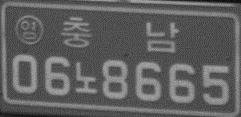0: (11, 53, 38, 94)
5: (200, 63, 230, 106)
6: (167, 62, 196, 104), (134, 60, 162, 102), (43, 55, 70, 96)
8: (101, 59, 128, 100)
노: (73, 61, 98, 94)
영: (14, 14, 45, 46)
충남_D: (61, 16, 178, 53)
